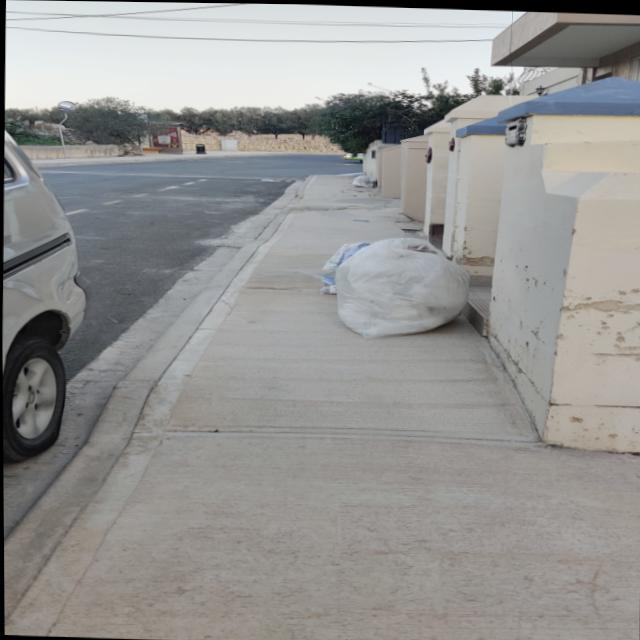Recyclable Material -Grey Bags-: (317, 236, 465, 341), (349, 174, 379, 187)
